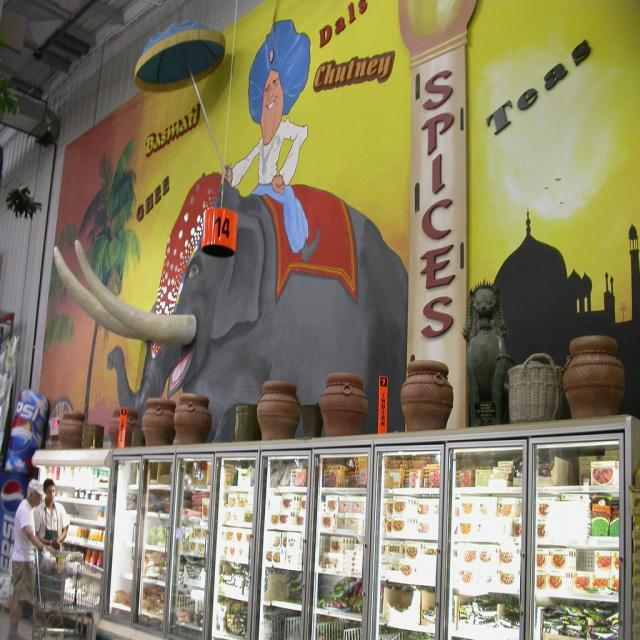elephant: (59, 90, 454, 441)
